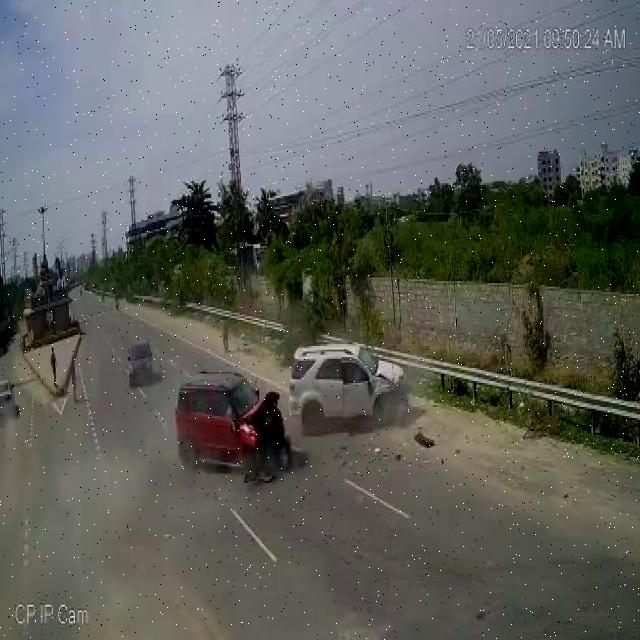accident: (170, 331, 415, 490)
